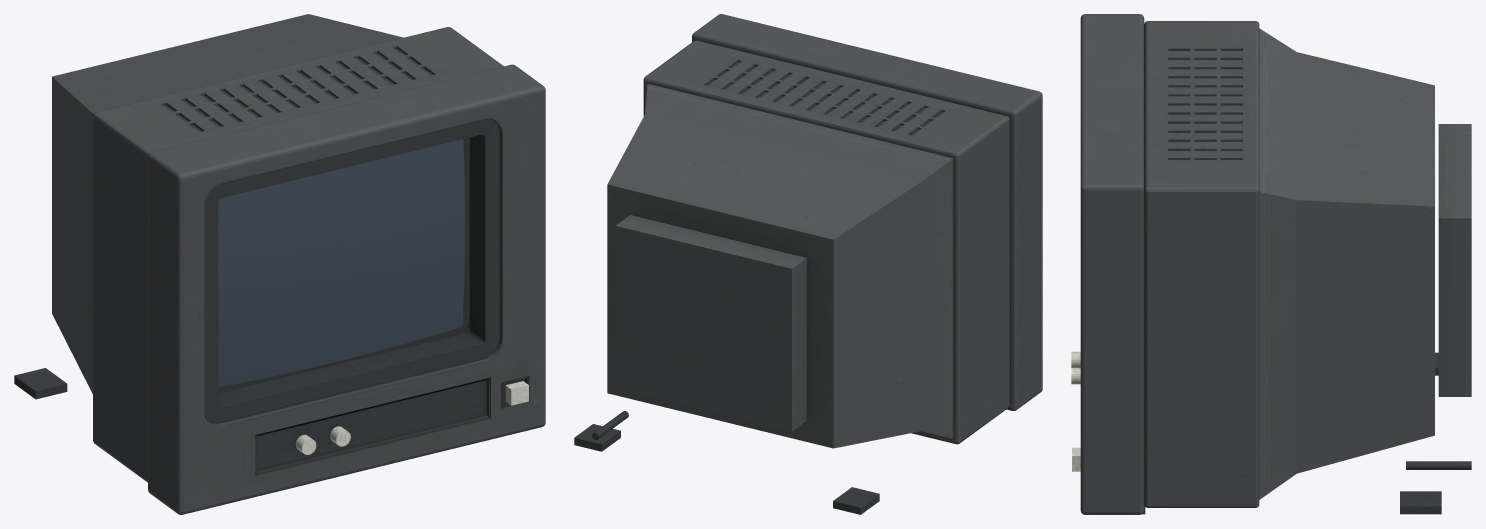
File: homecrt-e.glb
The picture shows the model from 3 angles, left to right: view 1: azimuth 30°, elevation 25°; view 2: azimuth 150°, elevation 25°; view 3: azimuth 270°, elevation 25°; orthographic projection. The views are drawn at different scales.
Visible parts, largest first — view 1: case-baked, screen-glass; view 2: case-baked; view 3: case-baked.
Boxes of the visible parts, x1,y1,x2,y2 form: case-baked: (14,14,545,514); screen-glass: (218,139,464,387); case-baked: (574,14,1042,514); case-baked: (1071,14,1471,514).
Bounding box in the file's own units: 0.375 × 0.34 × 0.365.
2 materials, 1 textured.
